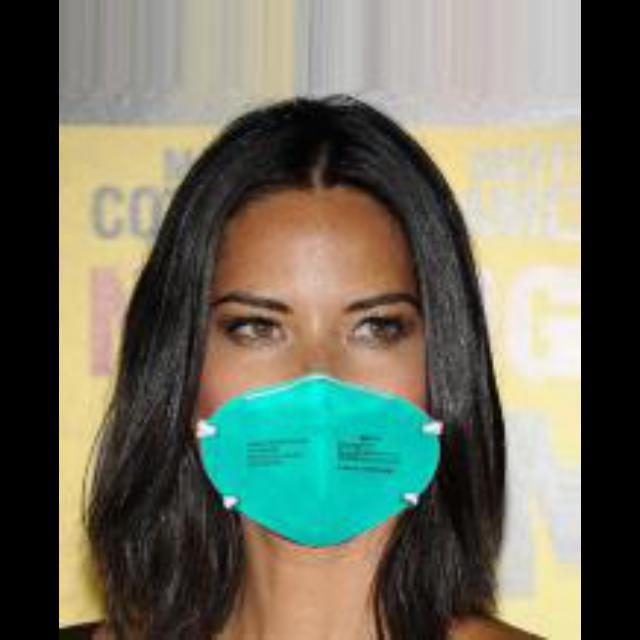suspicion: (172, 129, 466, 557)
